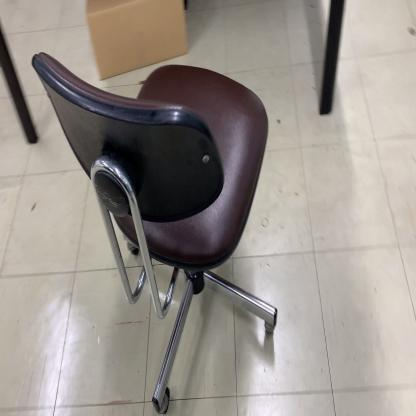chair: (30, 50, 278, 412)
